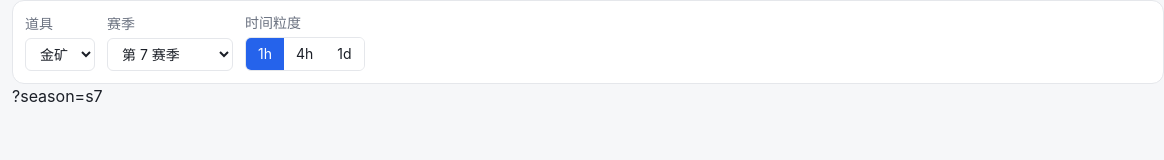
Scenario: can pick a custom time range instead of a season
Select "自定义时间段" in the dropdown labelled "赛季" at (170, 54), box [107, 38, 233, 71]
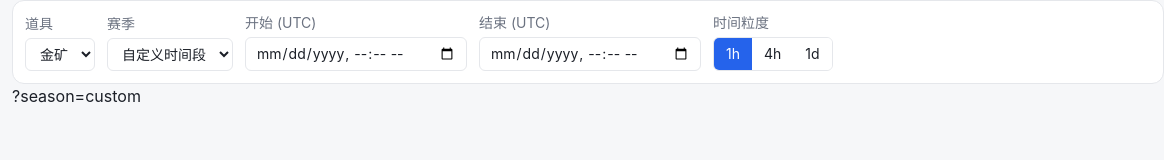
expect the text "开始 (UTC)" is shown: met, box [245, 14, 316, 31]
